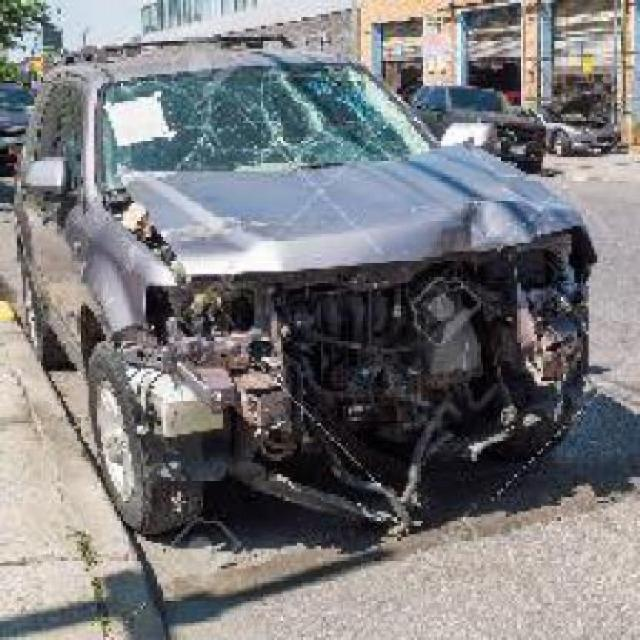damaged-front-bumper: (192, 393, 606, 478)
damaged-hood: (122, 156, 590, 278)
damaged-windscreen: (100, 56, 428, 178)
